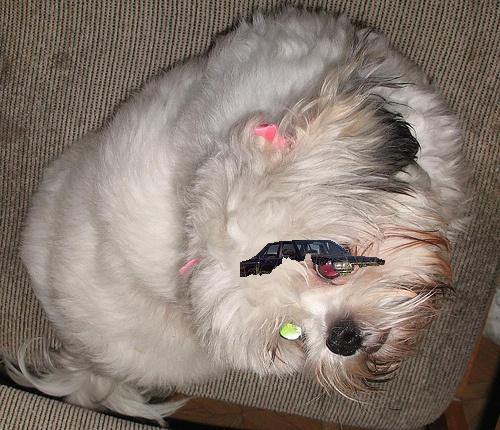tampered: (241, 241, 385, 277)
